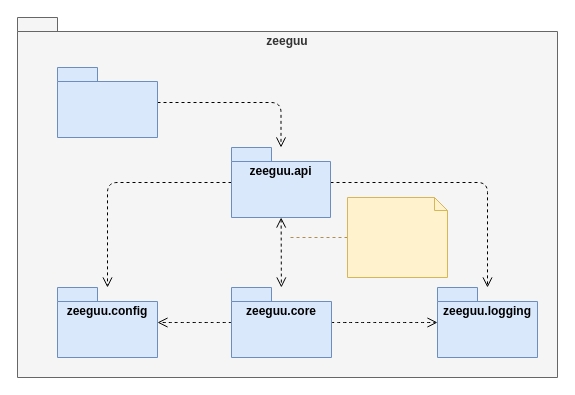
Some shapes in this 575 by 395 pixel diagram are drawn without their labels. Each missing label, with the centre of its shape:
zeeguu.cl: (107,102)
zeeguu.core only uses zeeguu.api for returning certain error responses: (397,237)
